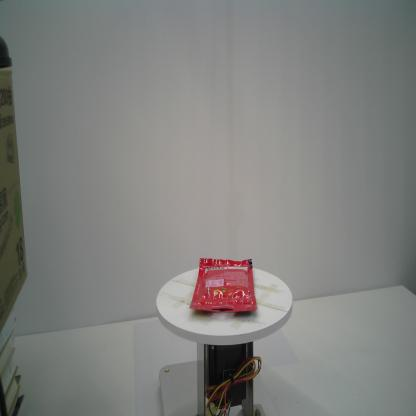Candy: (188, 256, 258, 314)
